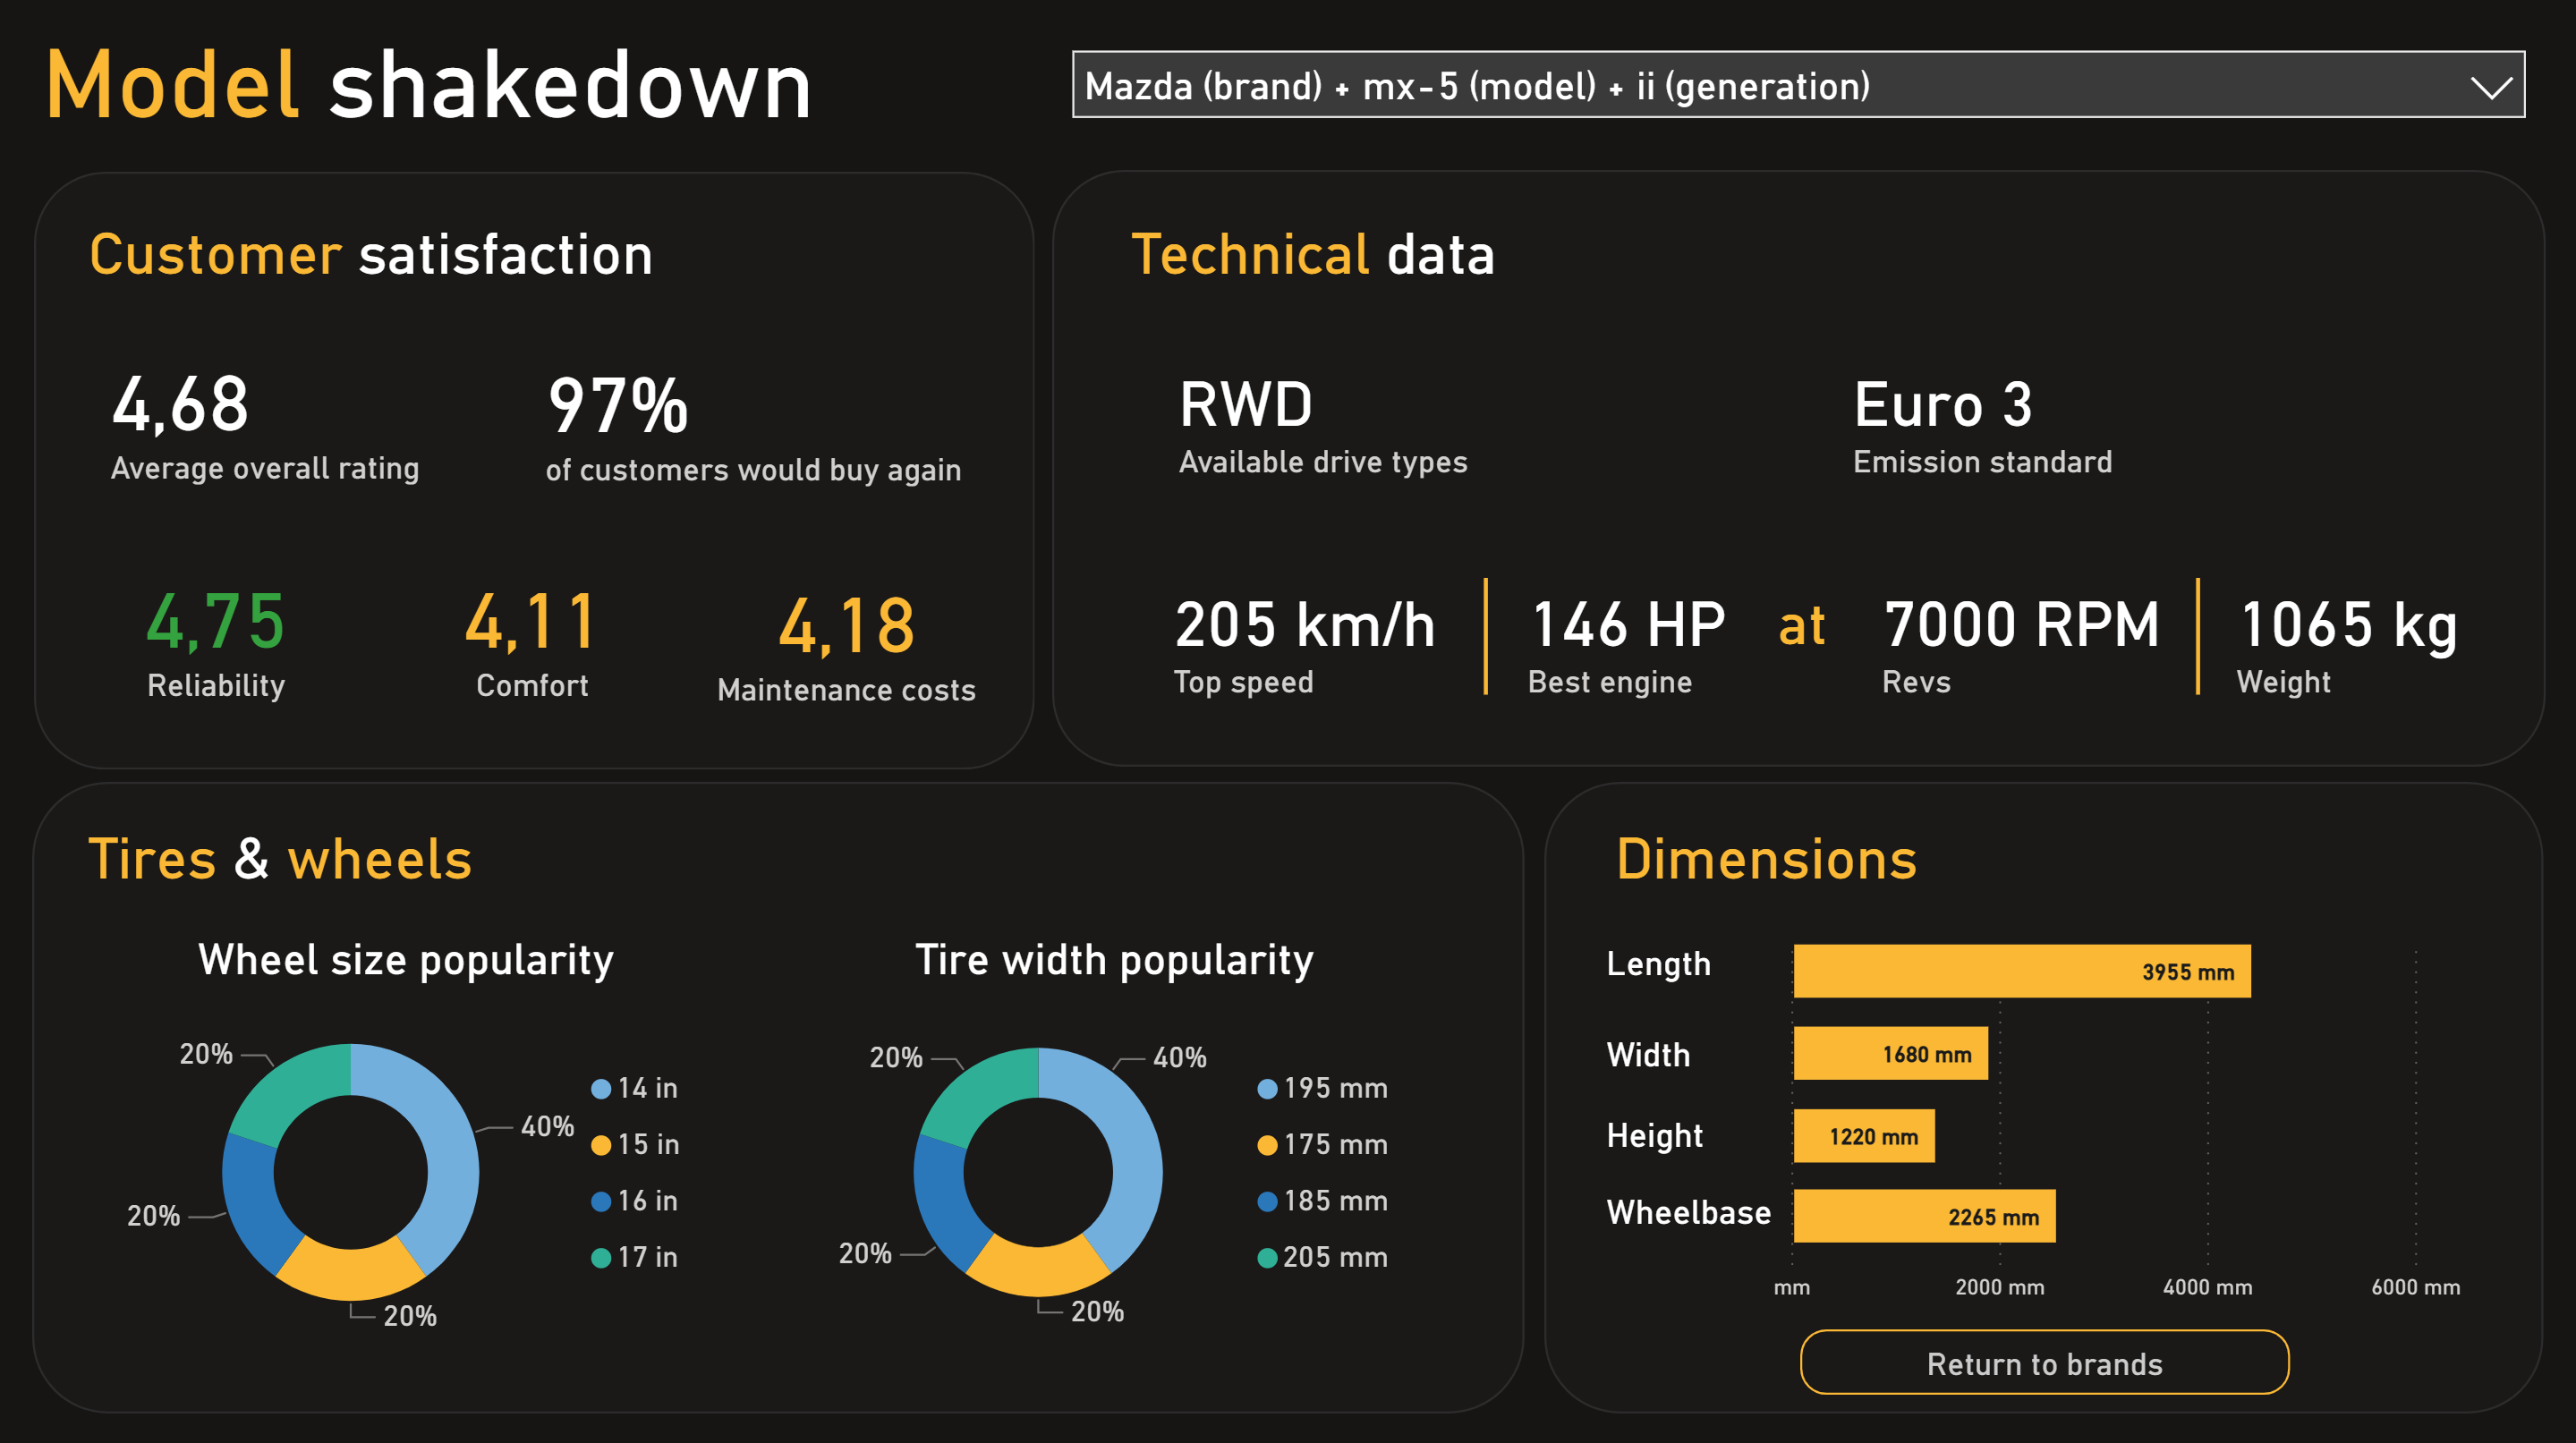

The dashboard page shown, as its layout file describes it:
{"tool":"powerbi","page":{"name":"Model","canvas":[1280,720],"ordinal":1},"visuals":[{"type":"shape","box":[522.7,84.3,741.9,296.5],"z":0},{"type":"slicer","title":"Brand","fields":{"Values":["car_tech_specs.brand Hierarchy.brand","car_tech_specs.brand Hierarchy.model","car_tech_specs.brand Hierarchy.generation"]},"box":[522.7,15.5,741.9,52],"z":1000},{"type":"textbox","box":[16.2,8.1,399.2,82.5],"z":2000},{"type":"shape","box":[16.5,85,497.2,297.1],"z":3000},{"type":"cardVisual","fields":{"Data":["Avg(car_ratings.overall_rating)"]},"box":[25.5,134.3,216.7,150],"z":4000},{"type":"cardVisual","fields":{"Data":["Avg(car_ratings.buy_again)"]},"box":[242.2,135.5,280.8,150],"z":5000},{"type":"textbox","box":[39.5,104.2,312.5,50],"z":6000},{"type":"cardVisual","fields":{"Data":["Avg(car_ratings.reliability_major_repairs)"]},"box":[39.6,252.2,135.9,130.8],"z":7000},{"type":"cardVisual","fields":{"Data":["car_ratings.Comfort"]},"box":[181.9,252.2,165.4,130.8],"z":8000},{"type":"cardVisual","fields":{"Data":["Avg(car_ratings.maintenance_costs)"]},"box":[318.9,252.9,203.7,132.1],"z":9000},{"type":"cardVisual","fields":{"Data":["car_tech_specs.List of drive_type values","Max(car_tech_specs.emission_standard)"]},"box":[556.1,163.7,696.8,93.4],"z":10000},{"type":"textbox","box":[556.4,104,313.3,50.6],"z":11000},{"type":"cardVisual","fields":{"Data":["car_ratings.Top speed for Max HP1","Max(car_tech_specs.max_hp)","car_ratings.Top speed for Max HP","car_ratings.Gross weight for Max HP"]},"box":[553.4,273.3,726.6,93.4],"z":12000},{"type":"textbox","box":[878.1,288.2,39.2,50.1],"z":13000},{"type":"shape","box":[719.2,286.8,37.9,58.2],"z":14000},{"type":"shape","box":[1073,286.8,37.9,58.2],"z":15000},{"type":"shape","box":[767.5,388.8,496.2,313.8],"z":16000},{"type":"clusteredBarChart","fields":{"Y":["Avg(car_tech_specs.width)"]},"box":[874,462.3,353.8,185.8],"z":17000},{"type":"shape","box":[16.2,388.8,741.2,313.8],"z":18000},{"type":"textbox","box":[38.6,404.7,231.8,50.6],"z":19000},{"type":"donutChart","title":"Tire width popularity","fields":{"Category":["tire_specs.tire_width"],"Y":["CountNonNull(tire_specs.wheel_size)"]},"box":[403.2,464.1,300.4,212.4],"z":20000},{"type":"donutChart","title":"Wheel size popularity","fields":{"Category":["tire_specs.wheel_size"],"Y":["CountNonNull(tire_specs.wheel_size)"]},"box":[51.4,464.1,300.4,212.4],"z":21000},{"type":"clusteredBarChart","fields":{"Y":["Max(car_tech_specs.length)"]},"box":[885.9,425.4,354.4,107.2],"z":22000},{"type":"clusteredBarChart","fields":{"Y":["Avg(car_tech_specs.width)"]},"box":[886.3,466.4,354.5,107],"z":23000},{"type":"clusteredBarChart","fields":{"Y":["Max(car_tech_specs.height)"]},"box":[886.2,507.5,354.2,107.4],"z":24000},{"type":"clusteredBarChart","fields":{"Y":["Max(car_tech_specs.wheelbase)"]},"box":[885.9,547.6,354.4,106.9],"z":25000},{"type":"textbox","box":[797.5,404,313.8,51],"z":26000},{"type":"textbox","box":[793.3,464.4,80,38],"z":27000},{"type":"textbox","box":[793.3,509.4,80,38],"z":28000},{"type":"textbox","box":[793.3,549.4,80,38],"z":29000},{"type":"textbox","box":[793.3,587.4,106,38],"z":30000},{"type":"actionButton","box":[894.2,660.8,243.3,32.5],"z":30001}]}

Visuals, with their boxes in screenshot pixels (x1, y1, x2, y2), scaled from the page's 1280x720 canvas onto the 2576x1443 screenshot:
shape: bbox=(1052, 169, 2545, 763)
"Brand" slicer: bbox=(1052, 31, 2545, 135)
textbox: bbox=(32, 16, 836, 182)
shape: bbox=(33, 170, 1033, 766)
cardVisual - Avg(car_ratings.overall_rating): bbox=(51, 269, 488, 570)
cardVisual - Avg(car_ratings.buy_again): bbox=(488, 272, 1052, 573)
textbox: bbox=(80, 208, 709, 309)
cardVisual - Avg(car_ratings.reliability_major_repairs): bbox=(80, 505, 353, 768)
cardVisual - car_ratings.Comfort: bbox=(366, 505, 699, 768)
cardVisual - Avg(car_ratings.maintenance_costs): bbox=(642, 507, 1051, 772)
cardVisual - car_tech_specs.List of drive_type values x Max(car_tech_specs.emission_standard): bbox=(1119, 328, 2521, 515)
textbox: bbox=(1119, 208, 1750, 310)
cardVisual - car_ratings.Top speed for Max HP1 x Max(car_tech_specs.max_hp): bbox=(1114, 547, 2575, 735)
textbox: bbox=(1767, 578, 1846, 678)
shape: bbox=(1448, 575, 1524, 692)
shape: bbox=(2159, 575, 2236, 692)
shape: bbox=(1544, 779, 2543, 1408)
clusteredBarChart - Avg(car_tech_specs.width): bbox=(1759, 927, 2471, 1299)
shape: bbox=(32, 779, 1525, 1408)
textbox: bbox=(78, 811, 544, 912)
"Tire width popularity" donutChart: bbox=(812, 930, 1416, 1356)
"Wheel size popularity" donutChart: bbox=(104, 930, 708, 1356)
clusteredBarChart - Max(car_tech_specs.length): bbox=(1783, 853, 2496, 1067)
clusteredBarChart - Avg(car_tech_specs.width): bbox=(1783, 935, 2497, 1150)
clusteredBarChart - Max(car_tech_specs.height): bbox=(1783, 1017, 2496, 1233)
clusteredBarChart - Max(car_tech_specs.wheelbase): bbox=(1783, 1098, 2496, 1311)
textbox: bbox=(1605, 810, 2237, 912)
textbox: bbox=(1596, 930, 1757, 1007)
textbox: bbox=(1596, 1021, 1757, 1097)
textbox: bbox=(1596, 1101, 1757, 1177)
textbox: bbox=(1596, 1177, 1810, 1253)
actionButton: bbox=(1799, 1324, 2289, 1389)
